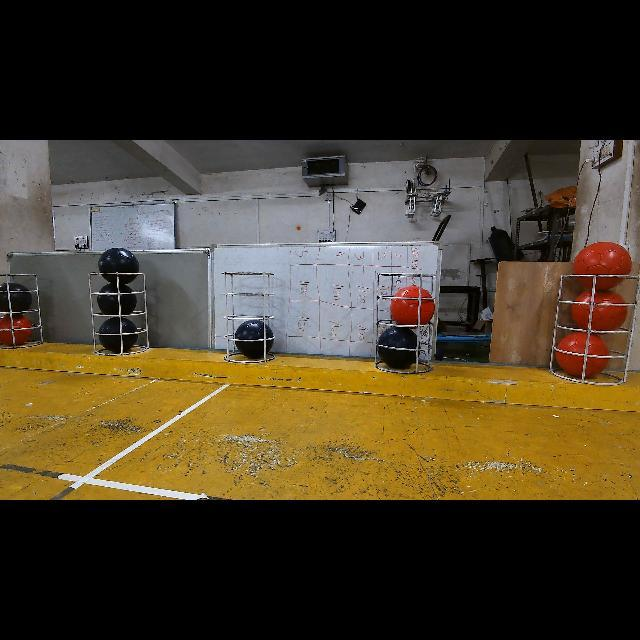P: (376, 326, 420, 369), (98, 248, 140, 285), (235, 320, 274, 359), (98, 318, 139, 354), (98, 282, 138, 315), (0, 282, 32, 316)
R: (574, 241, 632, 290), (555, 331, 610, 378), (571, 290, 628, 331), (390, 285, 435, 325), (0, 314, 32, 346)
S: (558, 278, 630, 388), (222, 265, 282, 361), (376, 274, 432, 371), (90, 271, 148, 361), (0, 277, 38, 345)
